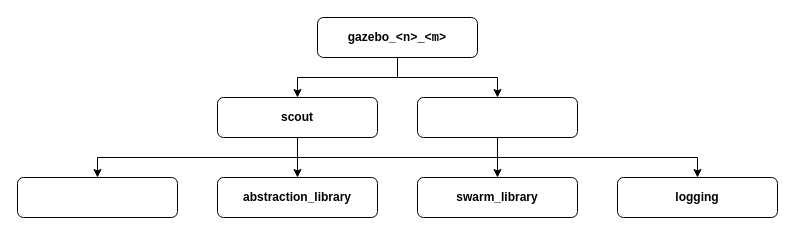
The diagram is 795 pixels wide and 235 high, and some of its shapes have lost their labels. The centre of each missing label's shape, as x and y in pixels:
communication_library: the point at 97,197
worker: the point at 497,117
